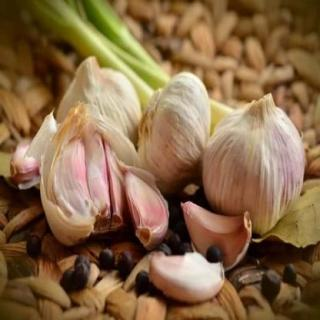Bawang Putih: (50, 120, 170, 247), (203, 101, 306, 237), (136, 73, 212, 180), (182, 203, 253, 271), (148, 249, 227, 300)
